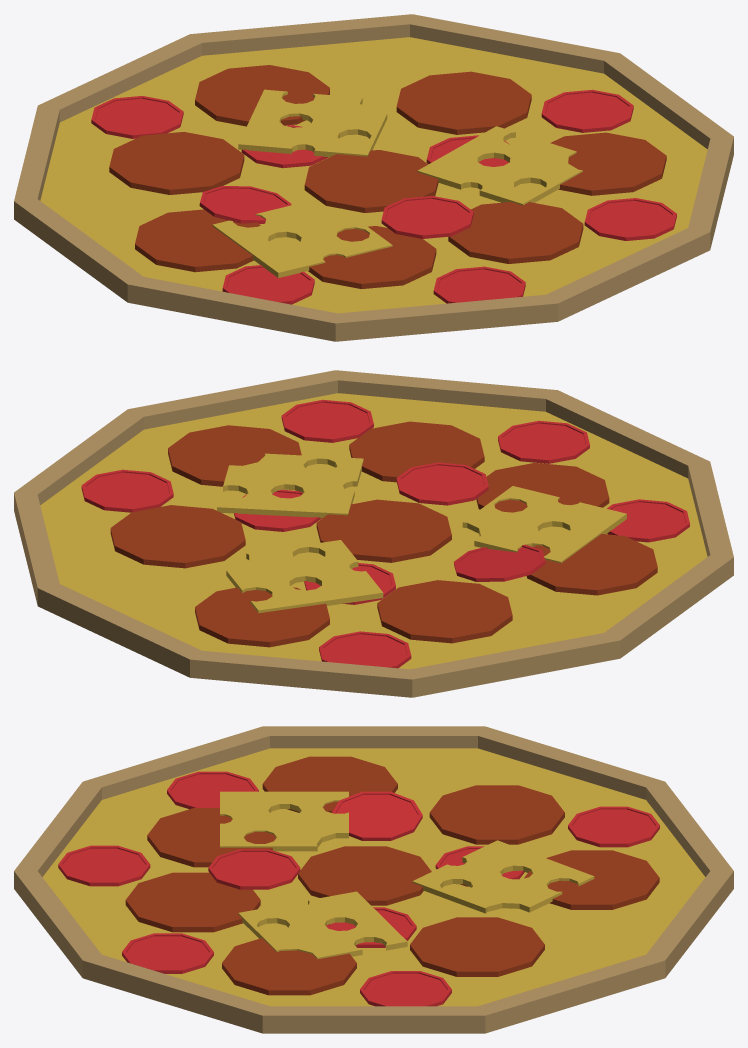
Rendered from pizza.fbx.
The picture shows the model from 3 angles, top to bottom: view 1: azimuth 30°, elevation 25°; view 2: azimuth 150°, elevation 25°; view 3: azimuth 270°, elevation 25°; orthographic projection. The views are drawn at different scales.
Parts seen in each view (by area): view 1: Circle, Plane_002, Plane_001, Plane, Circle_005, Circle_002, Circle_008, Circle_004, Circle_003, Circle_006, Circle_001, Circle_007 (+9 smaller); view 2: Circle, Plane_002, Plane_001, Circle_005, Circle_002, Plane, Circle_004, Circle_008, Circle_001, Circle_006, Circle_003, Circle_007 (+9 smaller); view 3: Circle, Plane_001, Plane_002, Plane, Circle_002, Circle_005, Circle_008, Circle_004, Circle_003, Circle_001, Circle_006, Circle_007 (+9 smaller).
Boxes of the visible parts, x1,y1,x2,y2 form: Circle: (14,14,733,341); Plane_002: (417,126,582,205); Plane_001: (238,89,387,157); Plane: (212,203,392,277); Circle_005: (109,132,244,194); Circle_002: (396,71,531,134); Circle_008: (448,202,583,263); Circle_004: (304,150,438,212); Circle_003: (550,132,666,195); Circle_006: (135,209,260,272); Circle_001: (195,65,329,126); Circle_007: (308,226,436,289); Circle: (14,370,733,697); Plane_002: (217,453,363,517); Plane_001: (226,540,383,613); Circle_005: (377,580,512,643); Circle_002: (110,505,245,568); Plane: (462,486,626,563); Circle_004: (316,499,451,562); Circle_008: (349,421,484,482); Circle_001: (195,587,329,647); Circle_006: (526,534,657,595); Circle_003: (168,425,301,486); Circle_007: (476,463,609,512); Circle: (14,726,733,1033); Plane_001: (412,840,594,913); Plane_002: (238,891,407,959); Plane: (220,791,348,851); Circle_002: (410,917,544,976); Circle_005: (429,785,564,844); Circle_008: (125,872,260,932); Circle_004: (298,846,431,905); Circle_003: (222,938,356,995); Circle_001: (524,850,659,909); Circle_006: (262,756,397,812); Circle_007: (147,808,275,867).
Bounding box in the file's own units: 1.9 × 0.0561 × 2.
